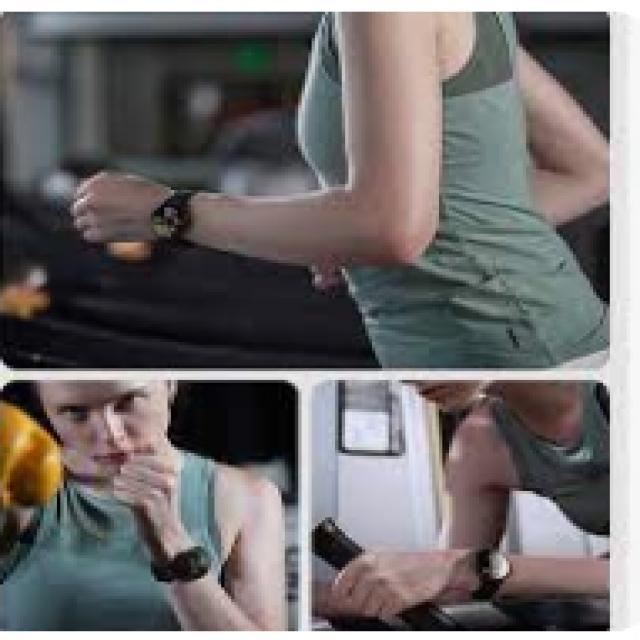Watch: (148, 180, 203, 250), (150, 540, 218, 591), (470, 540, 514, 603)
